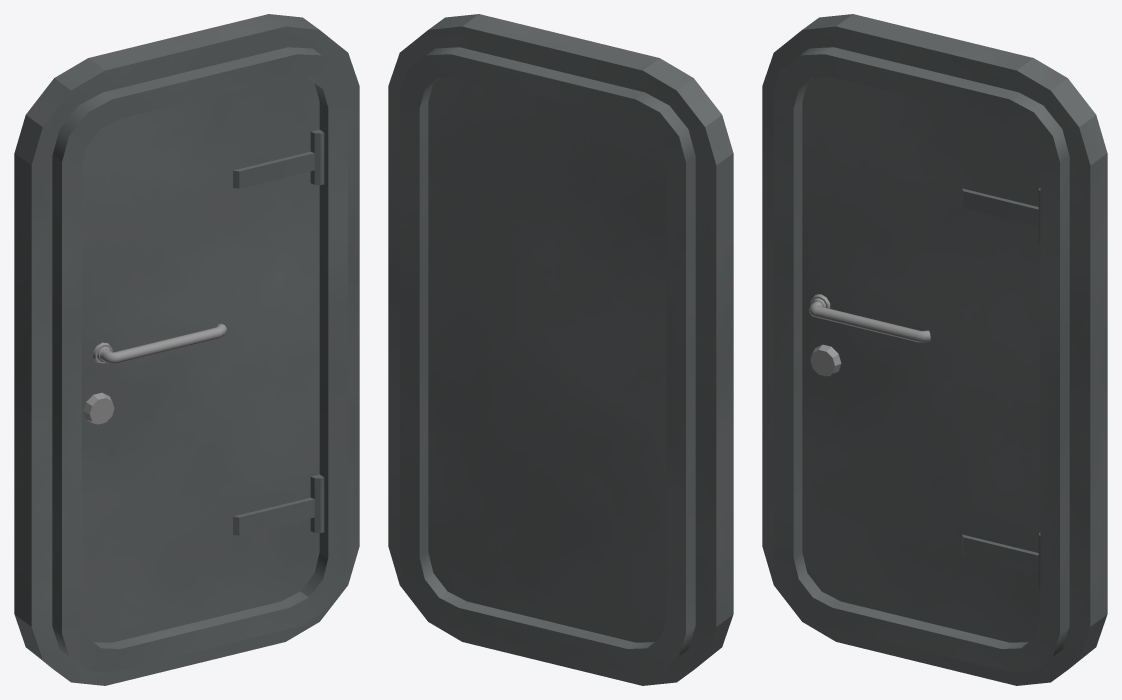
Rendered from doorway_closed.fbx.
The picture shows the model from 3 angles, left to right: view 1: azimuth 30°, elevation 25°; view 2: azimuth 150°, elevation 25°; view 3: azimuth 330°, elevation 25°; orthographic projection.
Visible parts, largest first — view 1: polySurface19; view 2: polySurface19; view 3: polySurface19.
Boxes of the visible parts, left/top/right/bottom form: polySurface19: left=14, top=14, right=359, bottom=685; polySurface19: left=388, top=14, right=733, bottom=685; polySurface19: left=762, top=14, right=1107, bottom=685.
Size of the model in its own units: 6.24 by 11.18 by 1.45.
1 material, 1 textured.
